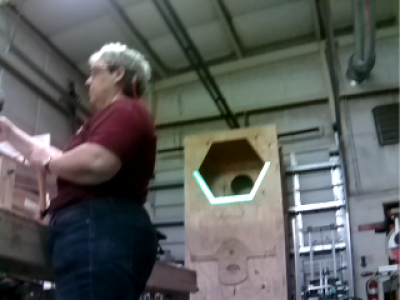target: (193, 161, 272, 205)
